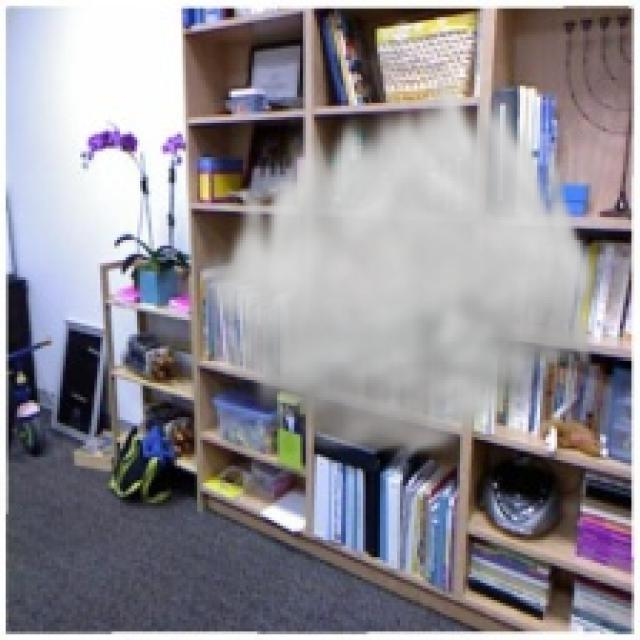Smoke: (197, 60, 600, 466)
